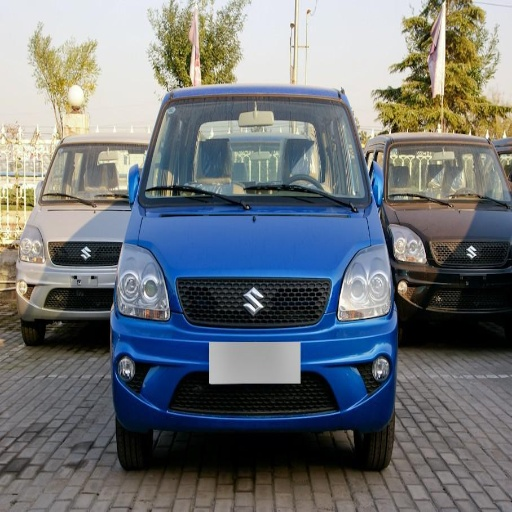front_bumper: (112, 274, 392, 429)
front_right_light: (118, 247, 171, 320)
